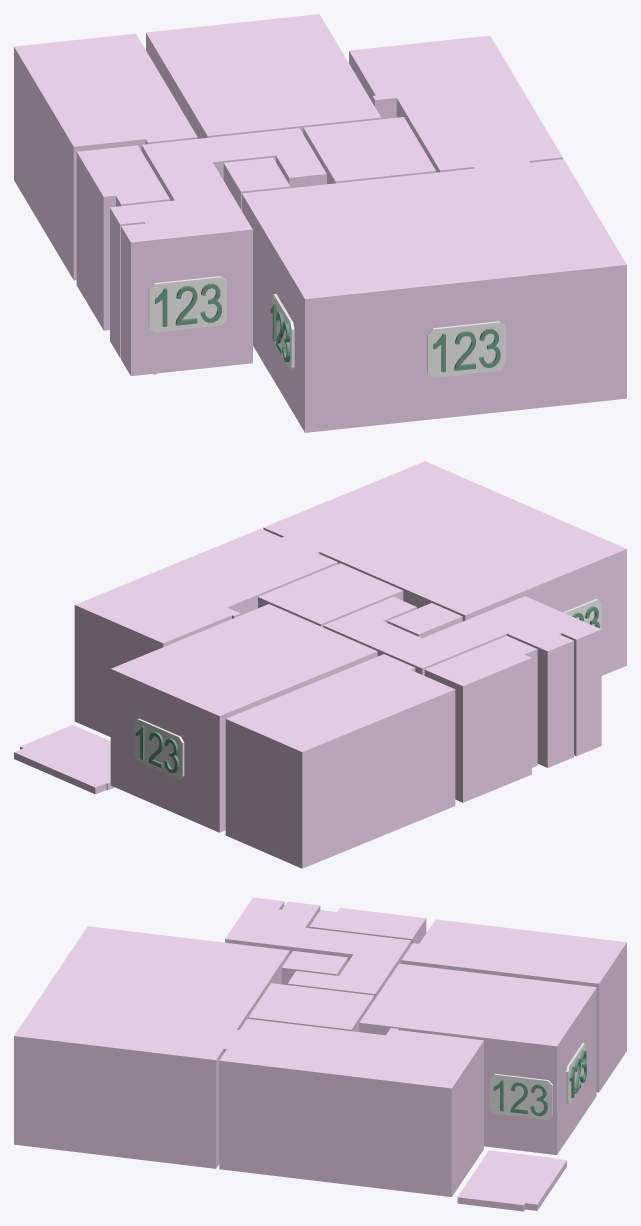
The picture shows the model from 3 angles, top to bottom: view 1: azimuth 30°, elevation 25°; view 2: azimuth 150°, elevation 25°; view 3: azimuth 270°, elevation 25°; orthographic projection. The views are drawn at different scales.
Parts seen in each view (by area): view 1: g_7, g_3, g_1, g_0, g_6, g_2, g_4, g_20, g_28, g_5, g_16; view 2: g_1, g_7, g_0, g_6, g_3, g_2, g_4, g_8, g_24, g_5; view 3: g_7, g_6, g_0, g_1, g_3, g_8, g_4, g_2, g_12, g_5, g_24.
Part boxes in pixels (x1=…): g_7: x1=242, y1=159, x2=626, y2=432; g_3: x1=110, y1=128, x2=326, y2=376; g_1: x1=14, y1=33, x2=197, y2=280; g_0: x1=146, y1=14, x2=381, y2=138; g_6: x1=349, y1=35, x2=562, y2=172; g_2: x1=76, y1=145, x2=169, y2=330; g_4: x1=303, y1=117, x2=436, y2=184; g_20: x1=427, y1=321, x2=505, y2=377; g_28: x1=148, y1=276, x2=226, y2=332; g_5: x1=223, y1=157, x2=290, y2=210; g_16: x1=272, y1=294, x2=294, y2=370; g_1: x1=225, y1=654, x2=455, y2=868; g_7: x1=263, y1=461, x2=626, y2=675; g_0: x1=110, y1=604, x2=377, y2=832; g_6: x1=74, y1=528, x2=337, y2=736; g_3: x1=323, y1=596, x2=601, y2=767; g_2: x1=424, y1=636, x2=537, y2=802; g_4: x1=258, y1=563, x2=403, y2=627; g_8: x1=14, y1=725, x2=114, y2=794; g_24: x1=134, y1=718, x2=184, y2=779; g_5: x1=387, y1=603, x2=462, y2=638; g_7: x1=14, y1=926, x2=289, y2=1168; g_6: x1=219, y1=1018, x2=483, y2=1196; g_0: x1=359, y1=963, x2=596, y2=1154; g_1: x1=401, y1=919, x2=626, y2=1092; g_3: x1=225, y1=897, x2=411, y2=999; g_8: x1=457, y1=1150, x2=566, y2=1211; g_4: x1=248, y1=983, x2=374, y2=1031; g_2: x1=309, y1=908, x2=426, y2=944; g_12: x1=489, y1=1073, x2=552, y2=1120; g_5: x1=281, y1=951, x2=347, y2=984; g_24: x1=566, y1=1043, x2=585, y2=1105.
Bounding box in the file's own units: 10.08 × 2.74 × 13.16.
